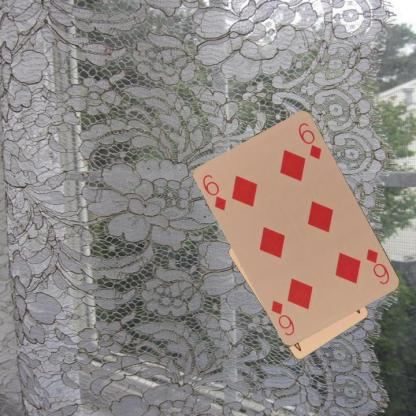6d: (200, 172, 228, 212), (364, 246, 391, 286)
